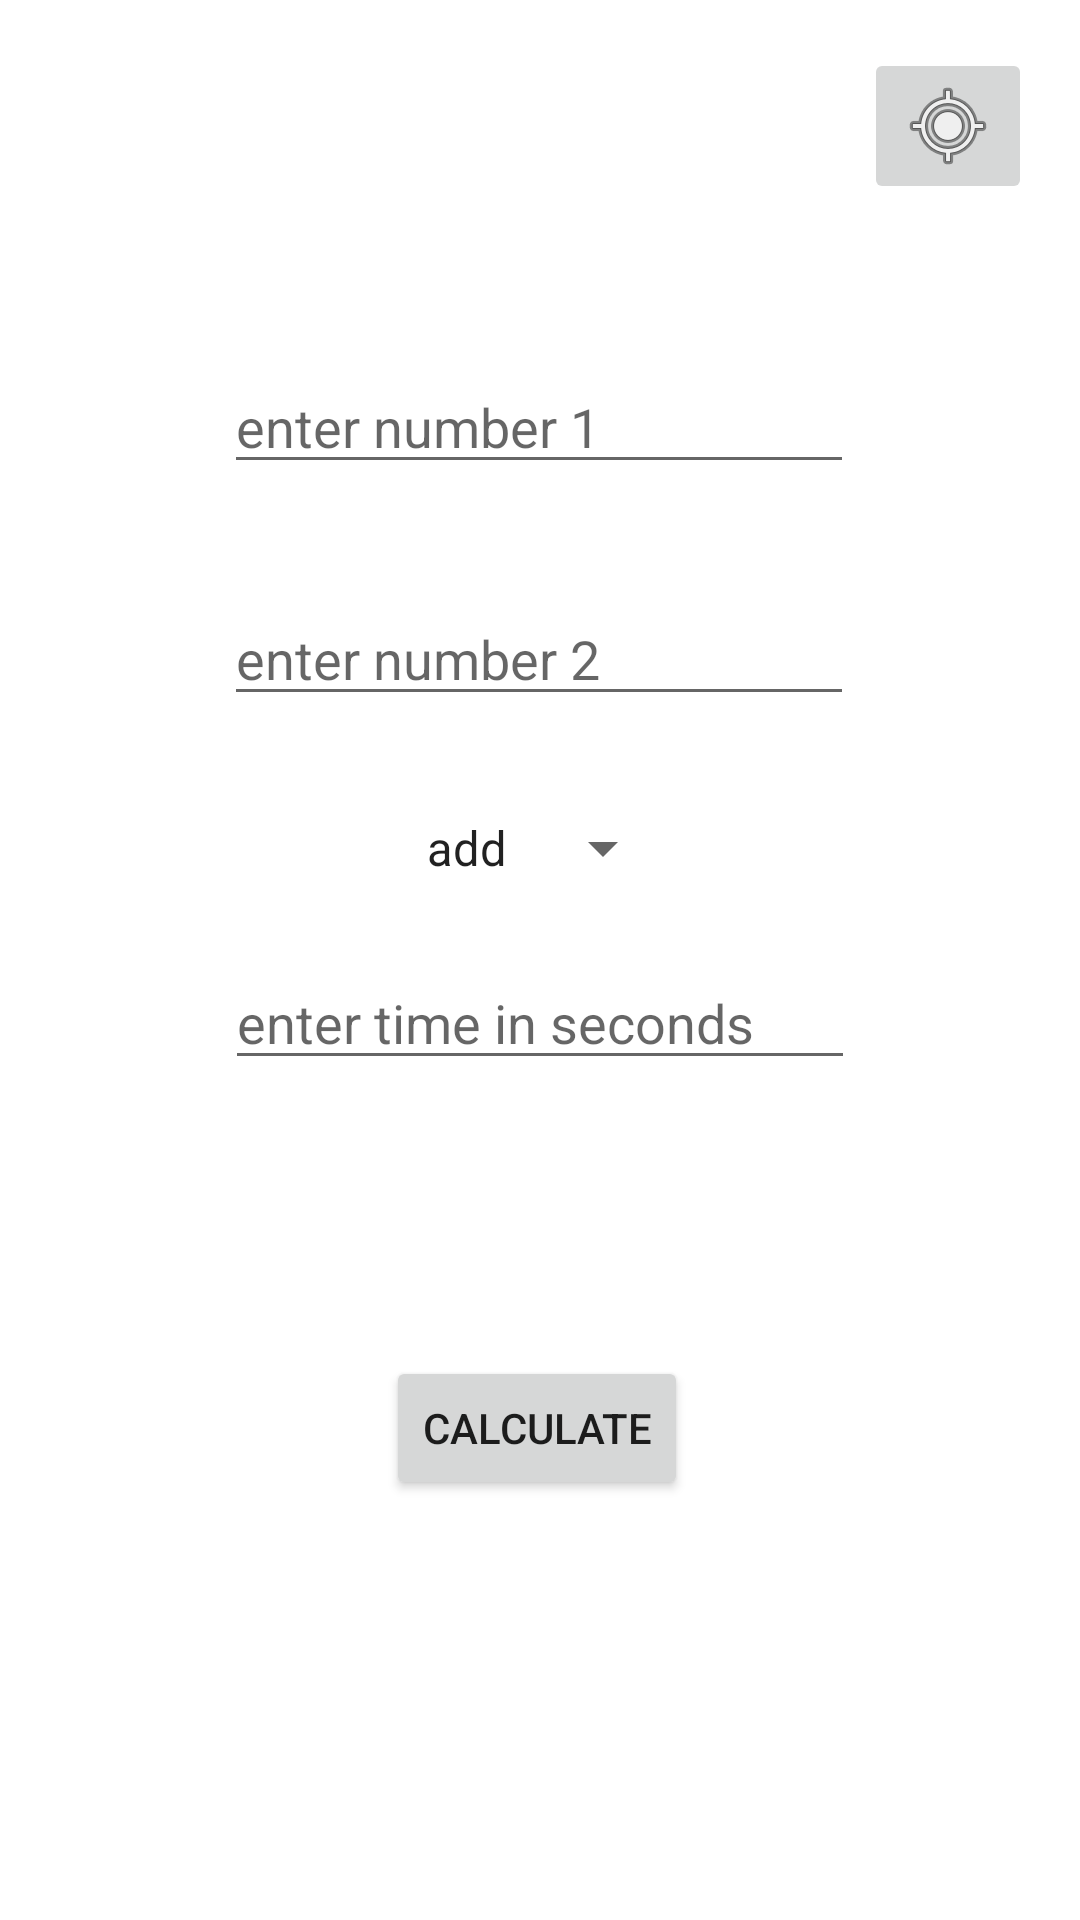

Screen size 1080 × 1920. Icon name, then its box in pixels as (x1, y1, x2, y2):
mylocation: (876, 66, 1020, 186)
